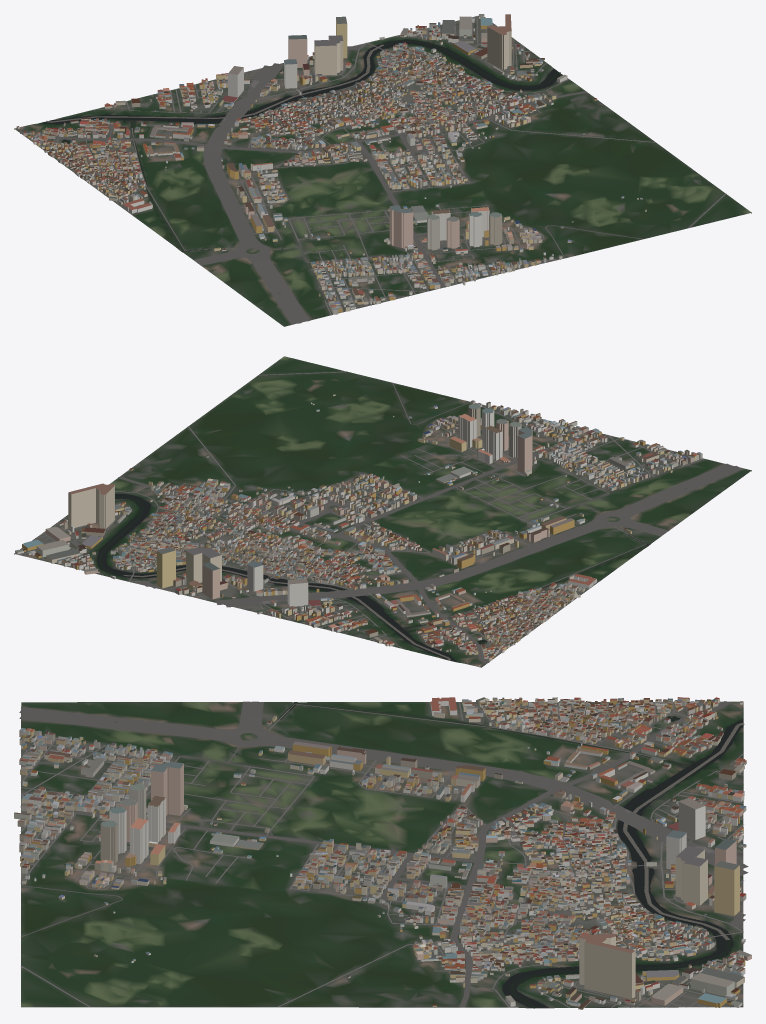
3 views of the same model, one above another, from view 1: azimuth 30°, elevation 25°; view 2: azimuth 150°, elevation 25°; view 3: azimuth 270°, elevation 25° (orthographic). The views are drawn at different scales.
Visible parts, largest first — view 1: ground, buildings, roads, water; view 2: ground, buildings, roads, water; view 3: ground, buildings, roads, water.
Part boxes in pixels (x1,y1,x2,y2): ground: [14, 15, 751, 326]; buildings: [16, 14, 646, 314]; roads: [20, 16, 726, 324]; water: [40, 39, 561, 251]; ground: [14, 356, 751, 667]; buildings: [15, 394, 702, 666]; roads: [18, 371, 742, 663]; water: [97, 494, 649, 661]; ground: [21, 701, 743, 1008]; buildings: [14, 697, 751, 1009]; roads: [19, 701, 748, 1007]; water: [278, 702, 744, 1008].
Bounding box in the file's own units: 1415 × 107 × 1432.
